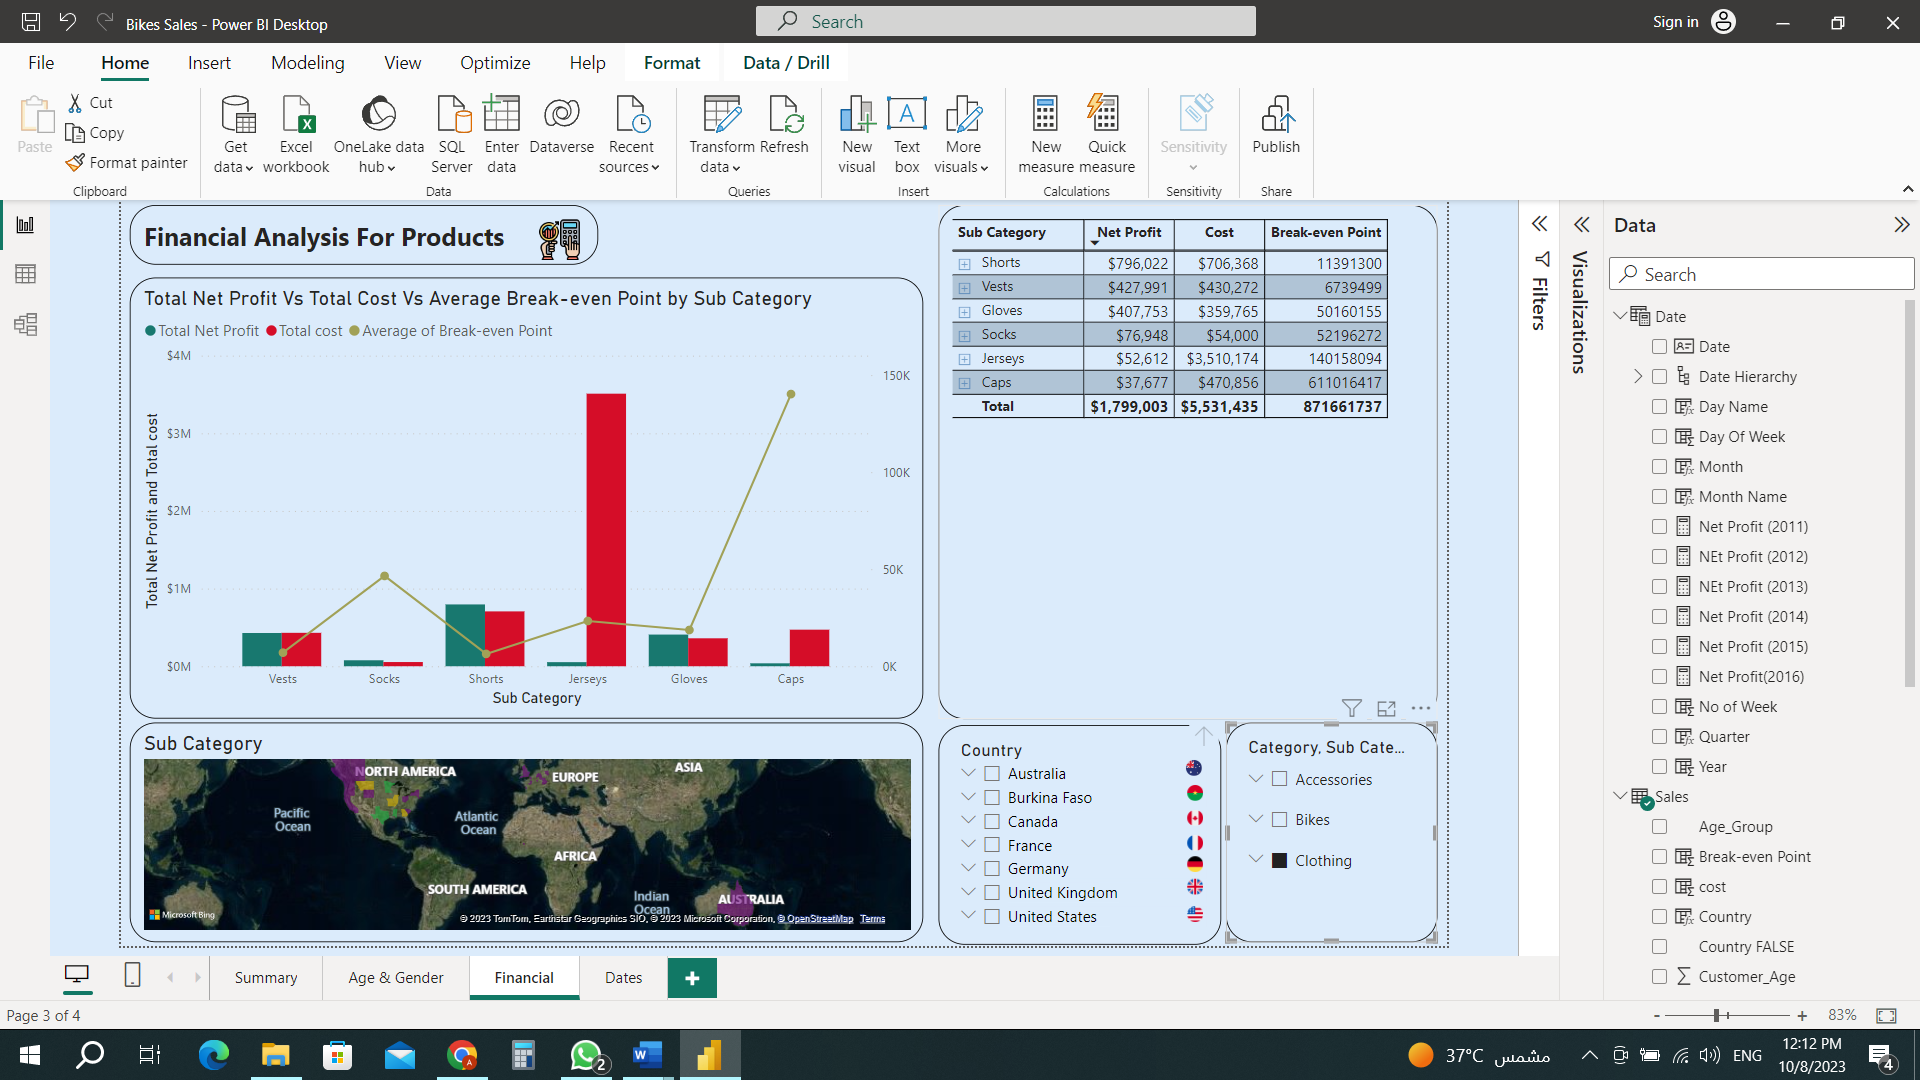

What the dashboard file says about the page in this screenshot:
{"tool":"powerbi","page":{"name":"Financial","canvas":[1280,720],"ordinal":2},"visuals":[{"type":"lineClusteredColumnComboChart","title":"Total Net Profit Vs Total Cost Vs Average Break-even Point by Sub Category","fields":{"Category":["Sales.Sub_Category"],"Y2":["Avg(Sales.Break-even Point)"],"Y":["Sum(Sales.Net Profit)","Sum(Sales.cost)"]},"box":[8.4,74.8,765.8,425.7],"z":0},{"type":"slicer","fields":{"Values":["Sales.Product_Category","Sales.Sub_Category","Sales.Product"]},"box":[1066.1,504.1,203.8,212.3],"z":1000},{"type":"slicer","fields":{"Values":["Sales.Corrected Country","Sales.State"]},"box":[788.7,506.5,272.6,212.3],"z":2000},{"type":"image","box":[1024.3,608,25,25],"z":3000},{"type":"image","box":[1024.3,628,25,25],"z":4000},{"type":"image","box":[1024.3,650,25,25],"z":5000},{"type":"image","box":[1024.3,677,25,25],"z":6000},{"type":"image","box":[1024.3,584,25,25],"z":7000},{"type":"image","box":[1023,536,25,25],"z":8000},{"type":"image","box":[1219.3,583.7,35,35],"z":9000},{"type":"image","box":[1219.3,623.5,35,33.8],"z":10000},{"type":"image","box":[1219.3,545.1,35,30.2],"z":11000},{"type":"textbox","box":[8.4,5,452,57.9],"z":12000},{"type":"image","box":[398,13.3,49.4,49.4],"z":13000},{"type":"image","box":[1024,560,25,25],"z":17000},{"type":"pivotTable","fields":{"Rows":["Sales.Sub_Category","Sales.Product"],"Values":["Sum(Sales.Net Profit)","Sum(Sales.cost)","Sum(Sales.Break-even Point)"]},"box":[788.7,4.8,481.2,495.7],"z":18000},{"type":"filledMap","title":" Sub Category","fields":{"Category":["Sales.State"],"Series":["Sales.Sub_Category"]},"box":[8.4,504.1,765.8,212.3],"z":19000}]}

Visuals, with their boxes on the page's 1280x720 design canvas (x1, y1, x2, y2). These are canvas units, not pixel positions in the 1920x1080 screenshot, which may show the page scaled, cropped or inside an application window:
"Total Net Profit Vs Total Cost Vs Average Break-even Point by Sub Category" lineClusteredColumnComboChart: 8:75:774:500
slicer - Sales.Product_Category x Sales.Sub_Category: 1066:504:1270:716
slicer - Sales.Corrected Country x Sales.State: 789:506:1061:719
image: 1024:608:1049:633
image: 1024:628:1049:653
image: 1024:650:1049:675
image: 1024:677:1049:702
image: 1024:584:1049:609
image: 1023:536:1048:561
image: 1219:584:1254:619
image: 1219:624:1254:657
image: 1219:545:1254:575
textbox: 8:5:460:63
image: 398:13:447:63
image: 1024:560:1049:585
pivotTable - Sales.Sub_Category x Sales.Product: 789:5:1270:500
" Sub Category" filledMap: 8:504:774:716
